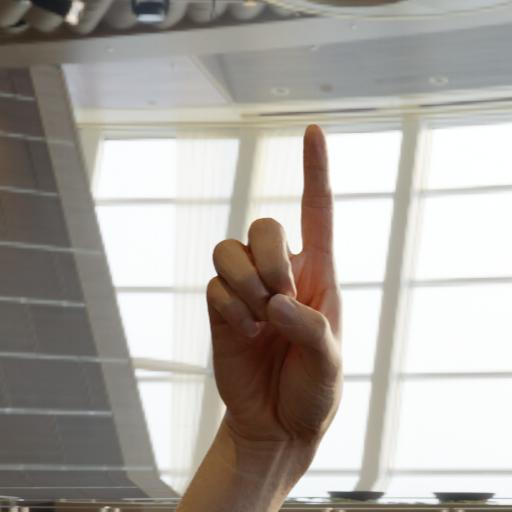D: (188, 102, 360, 463)
